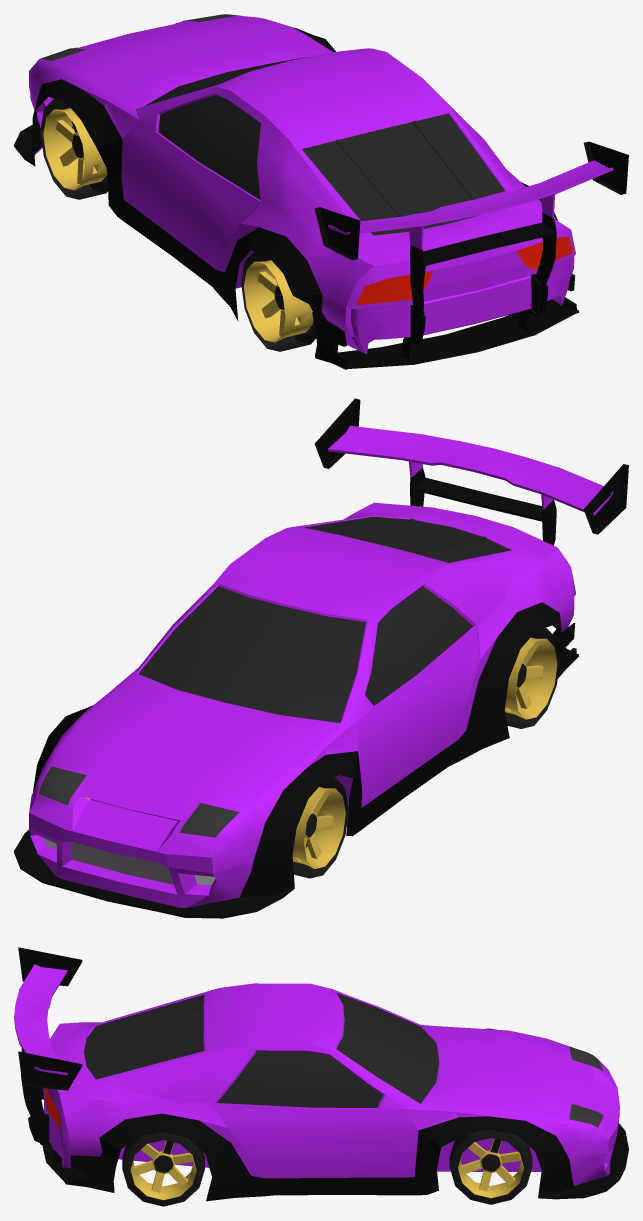
3 renders of one model, top to bottom at view 1: azimuth 30°, elevation 25°; view 2: azimuth 150°, elevation 25°; view 3: azimuth 270°, elevation 25°, orthographic. The views are drawn at different scales.
Parts seen in each view (by area): view 1: Body, Wheel.Bk.L, Wheel.Ft.L; view 2: Body, Wheel.Ft.L, Wheel.Bk.L; view 3: Body, Wheel.Ft.L, Wheel.Bk.L.
Boxes of the visible parts, left/top/right/bottom form: Body: left=14, top=14, right=628, bottom=369; Wheel.Bk.L: left=241, top=251, right=316, bottom=351; Wheel.Ft.L: left=40, top=98, right=108, bottom=199; Body: left=14, top=398, right=628, bottom=918; Wheel.Ft.L: left=81, top=777, right=348, bottom=878; Wheel.Bk.L: left=504, top=628, right=559, bottom=728; Body: left=14, top=947, right=628, bottom=1201; Wheel.Ft.L: left=449, top=1129, right=532, bottom=1204; Wheel.Bk.L: left=122, top=1132, right=204, bottom=1206.
Size of the model in its own units: 680 by 461 by 1661.
3 materials, 1 textured.
